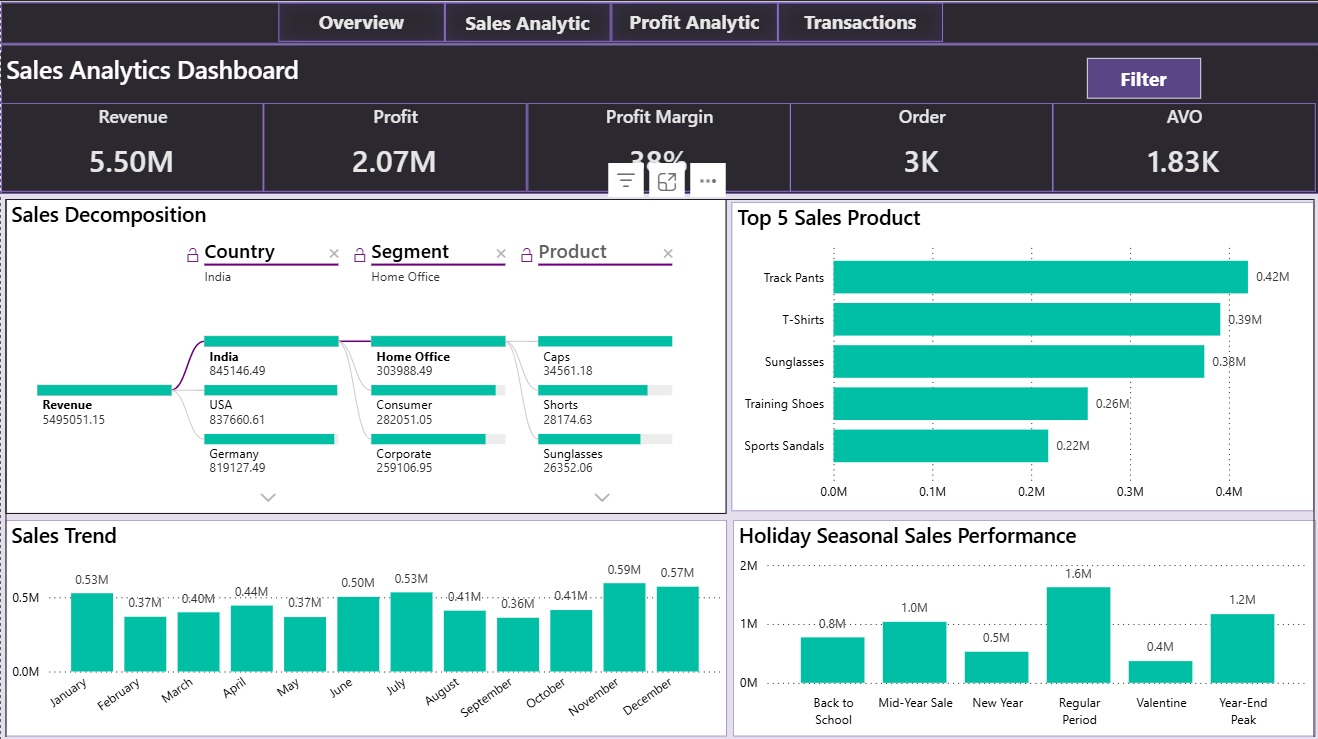

The page's visual inventory and layout, read from the dashboard file:
{"tool":"powerbi","page":{"name":"Sales Analytic","canvas":[1280,720],"ordinal":1},"visuals":[{"type":"shape","box":[0,2.1,1279.1,40],"z":0,"group":"g4"},{"type":"actionButton","title":"Transactions","box":[753.9,2.3,160.1,37.8],"z":0,"group":"g1"},{"type":"shape","box":[0,42.6,1278.9,145],"z":0,"group":"g2"},{"type":"cardVisual","title":"Revenue","fields":{"Data":["Footwear_Sales.Total Revenue"]},"box":[0,99.2,254.9,86.1],"z":0,"group":"g3"},{"type":"group","id":"g1","title":"Dashboard ","box":[269.2,2.3,644.8,38.4],"z":1000,"group":"g4"},{"type":"actionButton","title":"Profit_Analytic","box":[592.3,2.3,161.6,37.8],"z":1000,"group":"g1"},{"type":"textbox","title":"Sales Analytics Dashboard","box":[0,50,1278.5,35.4],"z":1000,"group":"g2"},{"type":"cardVisual","title":"Profit","fields":{"Data":["Footwear_Sales.Profit"]},"box":[255.3,98.9,255,86.1],"z":1000,"group":"g3"},{"type":"group","id":"g2","title":"KPI","box":[0,42.6,1278.9,145],"z":1500},{"type":"actionButton","title":"sales_Analytic","box":[430.3,2.3,160.7,38],"z":2000,"group":"g1"},{"type":"group","id":"g3","title":"cards","box":[0,98.9,1275.5,87.2],"z":2000,"group":"g2"},{"type":"cardVisual","title":"Profit Margin","fields":{"Data":["Footwear_Sales.Profit Margin"]},"box":[510.3,98.9,255,86.1],"z":2000,"group":"g3"},{"type":"group","id":"g4","title":"Dashboard selection","box":[0,2.1,1279.1,40],"z":3000},{"type":"actionButton","title":"overview","box":[269.2,2.9,161.6,37.8],"z":3000,"group":"g1"},{"type":"cardVisual","title":"Order","fields":{"Data":["Footwear_Sales.Order Count"]},"box":[765.3,98.9,255,86.1],"z":3000,"group":"g3"},{"type":"cardVisual","title":"AVO","fields":{"Data":["Footwear_Sales.AVO (average order value)"]},"box":[1020.3,98.9,255,86.1],"z":4000,"group":"g3"},{"type":"decompositionTreeVisual","title":"Sales Decomposition","fields":{"Analyze":["Footwear_Sales.Total Revenue"],"ExplainBy":["Footwear_Sales.Region / Country","Footwear_Sales.Customer Segment","Footwear_Sales.Product Name"]},"box":[4.6,192.8,700,305],"z":4750,"group":"g5"},{"type":"clusteredColumnChart","title":"Sales Trend","fields":{"Y":["Footwear_Sales.Total Revenue"],"Category":["Footwear_Sales.Order Month"]},"box":[4.6,503.9,700,210],"z":5000,"group":"g5"},{"type":"clusteredBarChart","title":"Top 5 Sales Product","fields":{"Category":["Footwear_Sales.Product Name"],"Y":["Footwear_Sales.Total Revenue"]},"box":[709.6,195.5,565,300],"z":6000,"group":"g5"},{"type":"clusteredColumnChart","title":"Holiday Seasonal Sales Performance","fields":{"Category":["Footwear_Sales.Season"],"Y":["Footwear_Sales.Total Revenue"]},"box":[710,504,565,210],"z":7000,"group":"g5"},{"type":"group","id":"g5","title":"SalesDashboard","box":[4.6,192.8,1270.4,521.2],"z":7001},{"type":"actionButton","title":"Filter_On","box":[1053.4,54.6,110.8,39.5],"z":7501}]}

Visuals, with their boxes in screenshot pixels (x1, y1, x2, y2), scaled from the page's 1280x720 canvas onto the 1318x739 screenshot:
shape: [0, 2, 1317, 43]
"Transactions" actionButton: [776, 2, 941, 41]
shape: [0, 44, 1317, 193]
"Revenue" cardVisual: [0, 102, 262, 190]
"Dashboard " group: [277, 2, 941, 42]
"Profit_Analytic" actionButton: [610, 2, 776, 41]
"Sales Analytics Dashboard" textbox: [0, 51, 1316, 88]
"Profit" cardVisual: [263, 102, 525, 190]
"KPI" group: [0, 44, 1317, 193]
"sales_Analytic" actionButton: [443, 2, 609, 41]
"cards" group: [0, 102, 1313, 191]
"Profit Margin" cardVisual: [525, 102, 788, 190]
"Dashboard selection" group: [0, 2, 1317, 43]
"overview" actionButton: [277, 3, 444, 42]
"Order" cardVisual: [788, 102, 1051, 190]
"AVO" cardVisual: [1051, 102, 1313, 190]
"Sales Decomposition" decompositionTreeVisual: [5, 198, 726, 511]
"Sales Trend" clusteredColumnChart: [5, 517, 726, 733]
"Top 5 Sales Product" clusteredBarChart: [731, 201, 1312, 509]
"Holiday Seasonal Sales Performance" clusteredColumnChart: [731, 517, 1313, 733]
"SalesDashboard" group: [5, 198, 1313, 733]
"Filter_On" actionButton: [1085, 56, 1199, 97]
